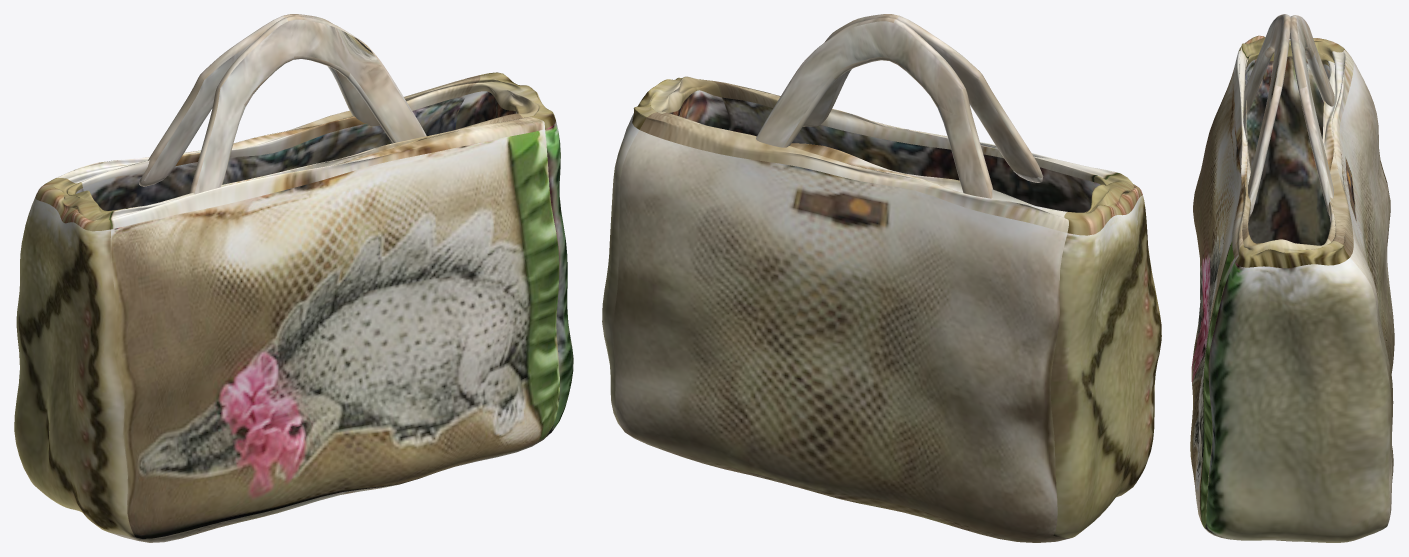
Rendered from 2017nenga_2.obj.
The picture shows the model from 3 angles, left to right: view 1: azimuth 30°, elevation 25°; view 2: azimuth 150°, elevation 25°; view 3: azimuth 270°, elevation 25°; orthographic projection. The views are drawn at different scales.
Visible parts, largest first — view 1: 2017nenga_2.obj; view 2: 2017nenga_2.obj; view 3: 2017nenga_2.obj.
Part boxes in pixels (x1,y1,x2,y2): 2017nenga_2.obj: (14, 14, 573, 542); 2017nenga_2.obj: (602, 14, 1161, 542); 2017nenga_2.obj: (1190, 14, 1394, 542).
Size of the model in its own units: 4.17 by 3.79 by 1.61.
Materials: 2 (2 with a texture image).
